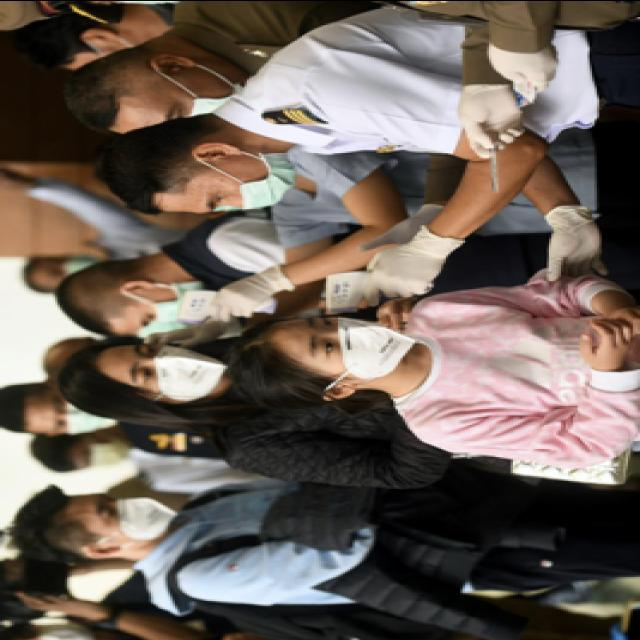mask: (300, 317, 414, 381), (120, 341, 228, 402), (144, 74, 244, 128), (197, 162, 297, 212), (86, 496, 170, 541), (128, 288, 204, 331), (44, 390, 108, 436), (77, 434, 129, 466)
